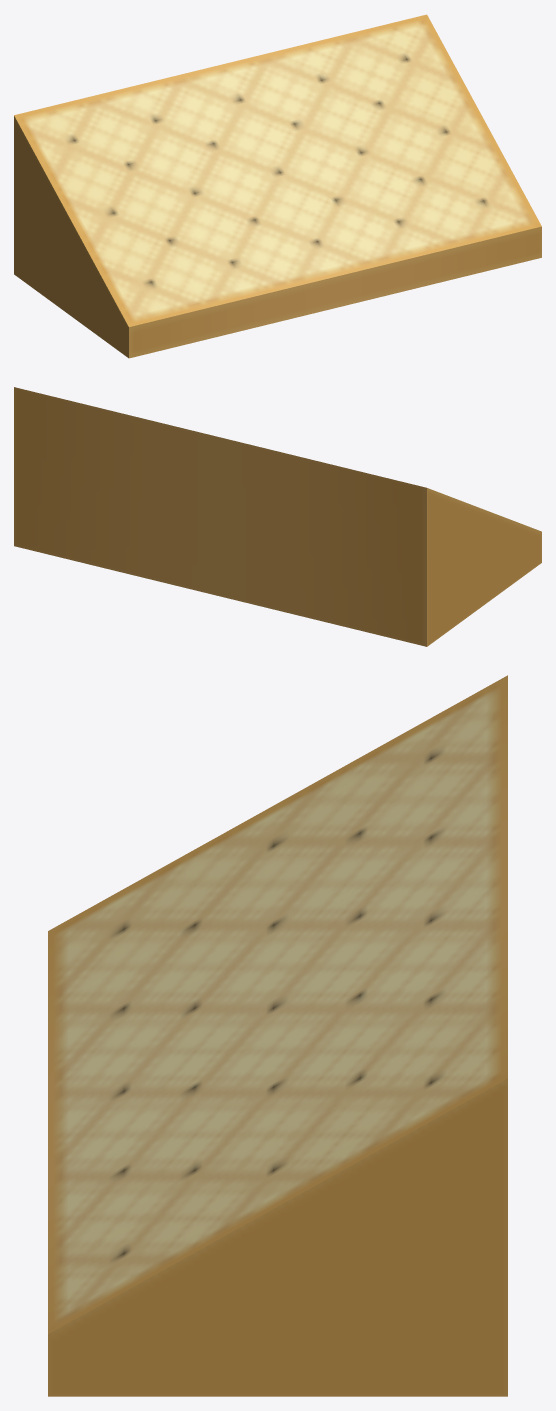
Rendered from jsf_DisplayShelf_04.fbx.
3 renders of one model, top to bottom at view 1: azimuth 30°, elevation 25°; view 2: azimuth 150°, elevation 25°; view 3: azimuth 270°, elevation 25°, orthographic. The views are drawn at different scales.
Visible parts, largest first — view 1: jsf_DisplayShelf_04; view 2: jsf_DisplayShelf_04; view 3: jsf_DisplayShelf_04.
Part boxes in pixels (x1=…): jsf_DisplayShelf_04: x1=14, y1=14, x2=541, y2=358; jsf_DisplayShelf_04: x1=14, y1=387, x2=541, y2=646; jsf_DisplayShelf_04: x1=48, y1=675, x2=507, y2=1396.
Size of the model in its own units: 41.5 by 15.28 by 20.
